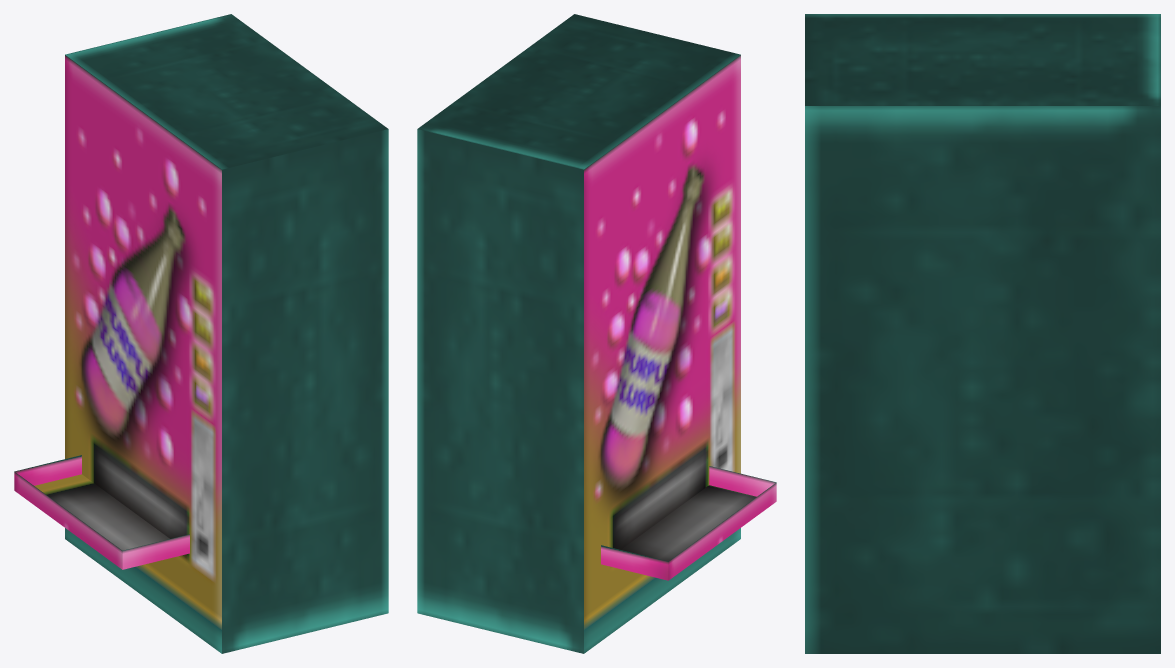
Rendered from flurpmachine.glb.
3 renders of one model, left to right at view 1: azimuth 30°, elevation 25°; view 2: azimuth 150°, elevation 25°; view 3: azimuth 270°, elevation 25°, orthographic. The views are drawn at different scales.
Parts seen in each view (by area): view 1: flurpmachine; view 2: flurpmachine; view 3: flurpmachine.
Boxes of the visible parts, bbox=[...] form: flurpmachine: bbox=[14, 14, 388, 653]; flurpmachine: bbox=[417, 14, 776, 653]; flurpmachine: bbox=[805, 14, 1160, 653].
Size of the model in its own units: 204 by 403 by 237.
Materials: 1 (1 with a texture image).
